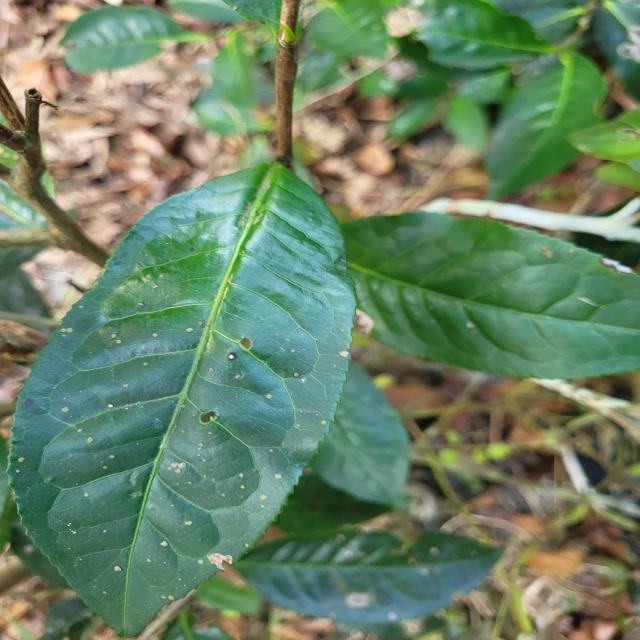Category D(7+ days, Not for Tea): (4, 151, 362, 640)
